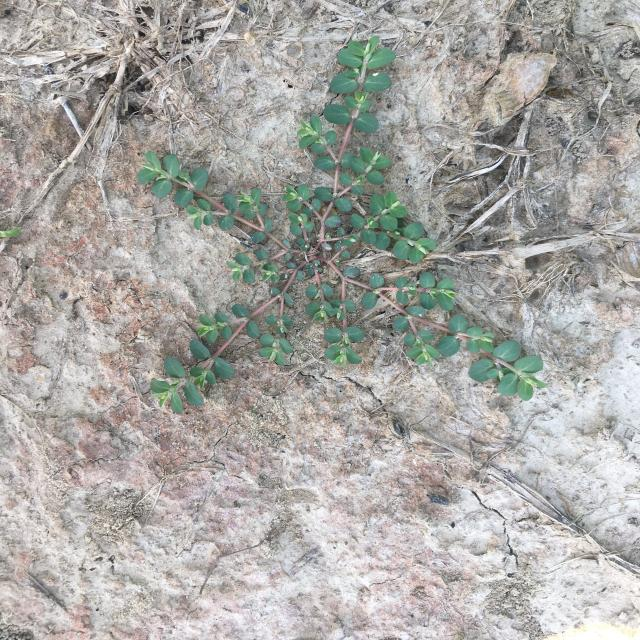SpottedSpurge: (137, 36, 548, 414)
